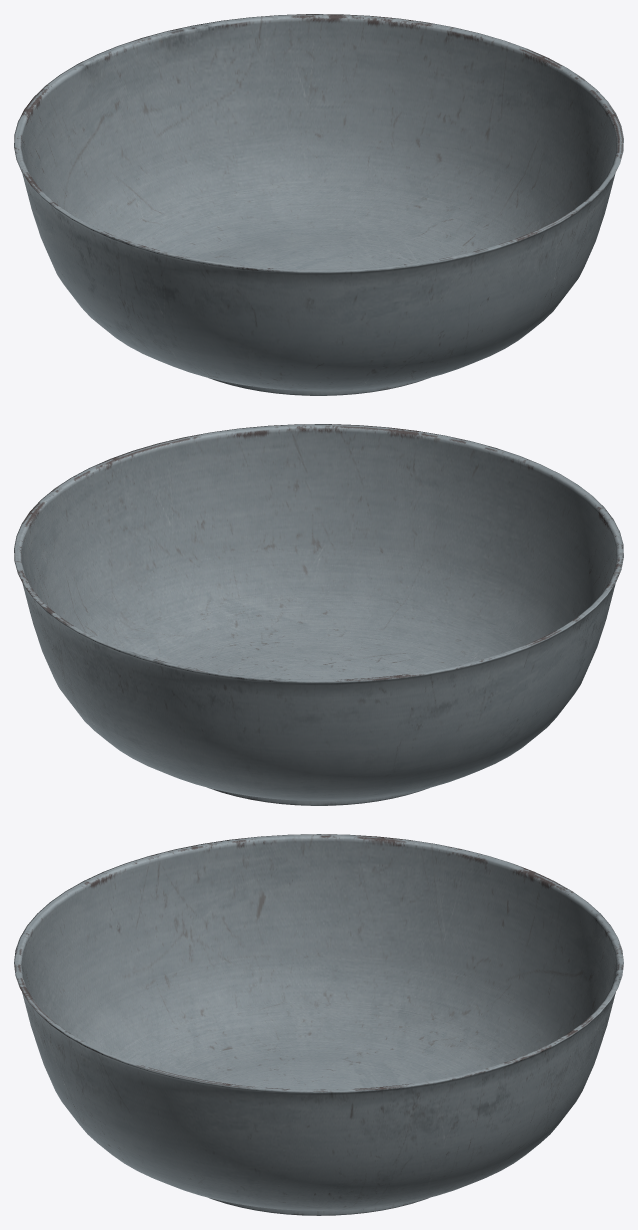
File: SM_Bowls100.fbx
3 views of the same model, one above another, from view 1: azimuth 30°, elevation 25°; view 2: azimuth 150°, elevation 25°; view 3: azimuth 270°, elevation 25° (orthographic).
Parts seen in each view (by area): view 1: SM_Bowls100; view 2: SM_Bowls100; view 3: SM_Bowls100.
Part boxes in pixels (x1=…): SM_Bowls100: x1=14, y1=14, x2=623, y2=395; SM_Bowls100: x1=14, y1=424, x2=623, y2=805; SM_Bowls100: x1=14, y1=834, x2=623, y2=1215.
Size of the model in its own units: 14.8 by 4.9 by 14.8.
Materials: 1 (1 with a texture image).
